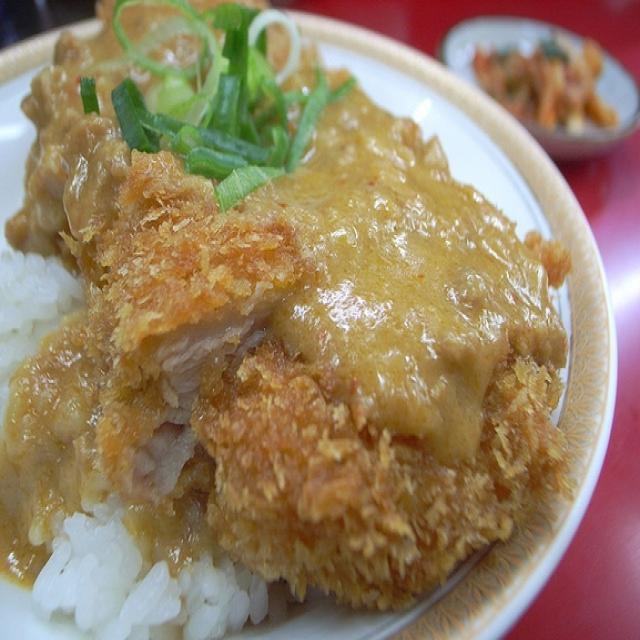鸡肉料理 含炸鸡: (8, 10, 616, 631)
